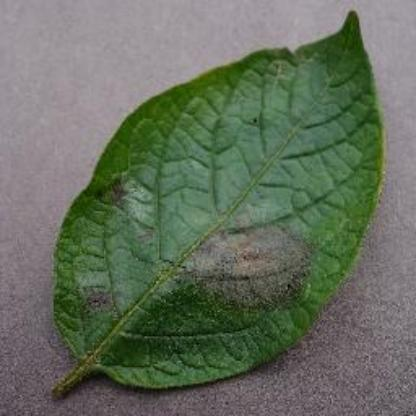Late-Blight: (47, 28, 400, 400)
